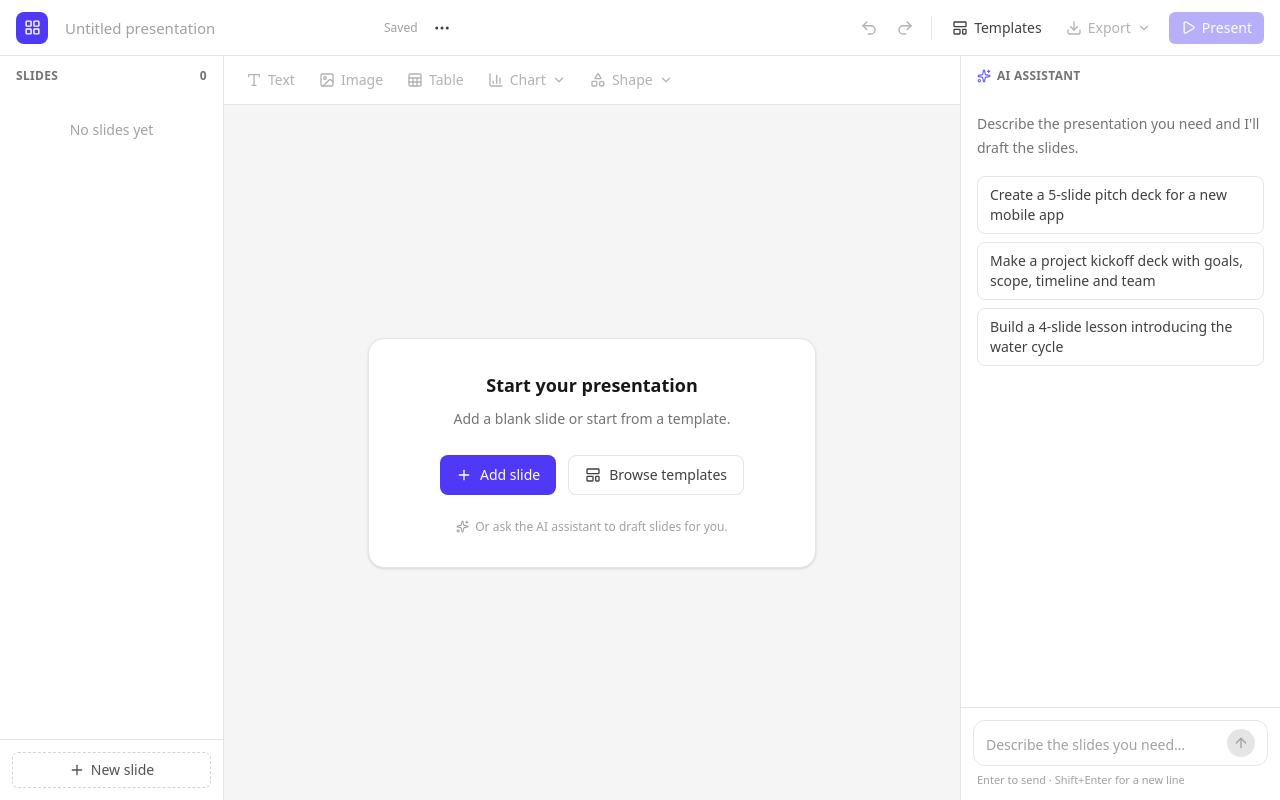
Editor: slides and templates › applies a template from the empty state and autofills the title
Check: the field named "Presentation title" is shown, box [56,10,376,46]
Click the button "Browse templates": click(656, 474) [568,454,744,494]
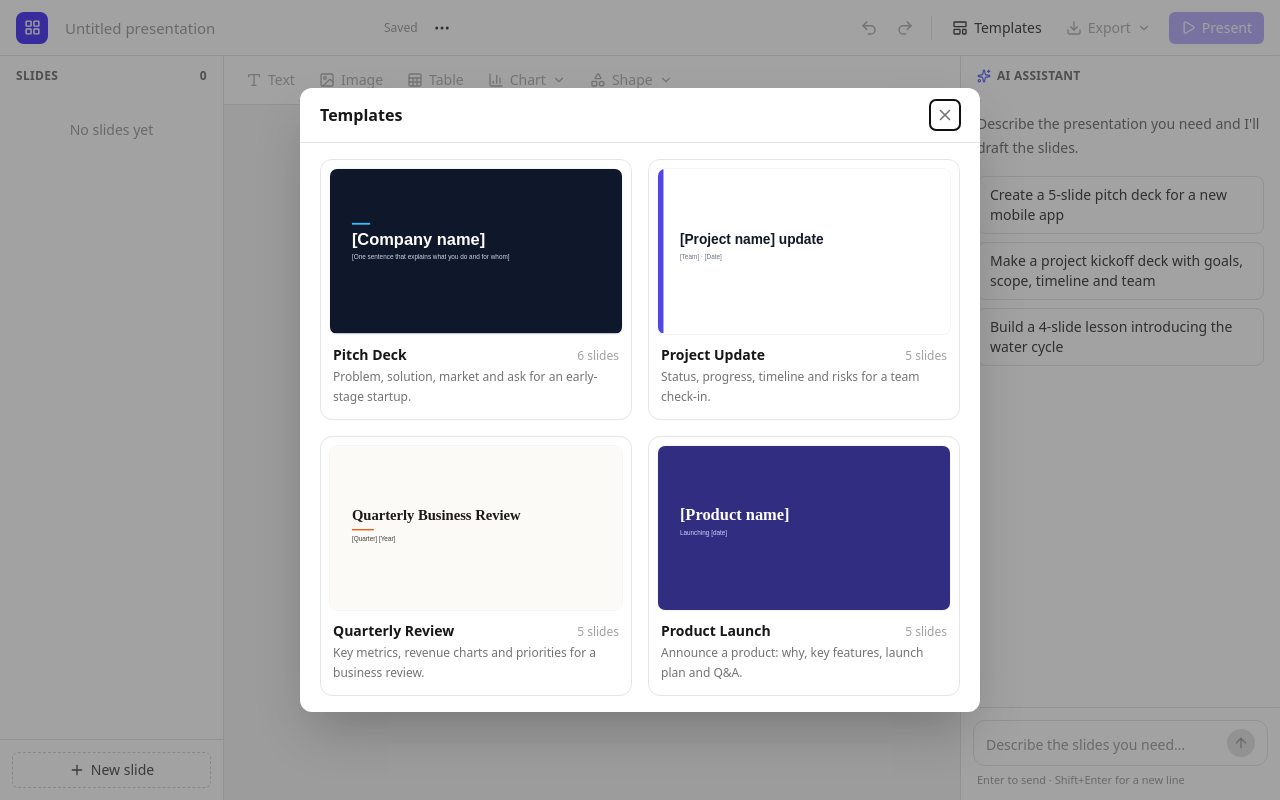
Click the button with aria-label "Project Update template": click(804, 289) [648,159,960,420]
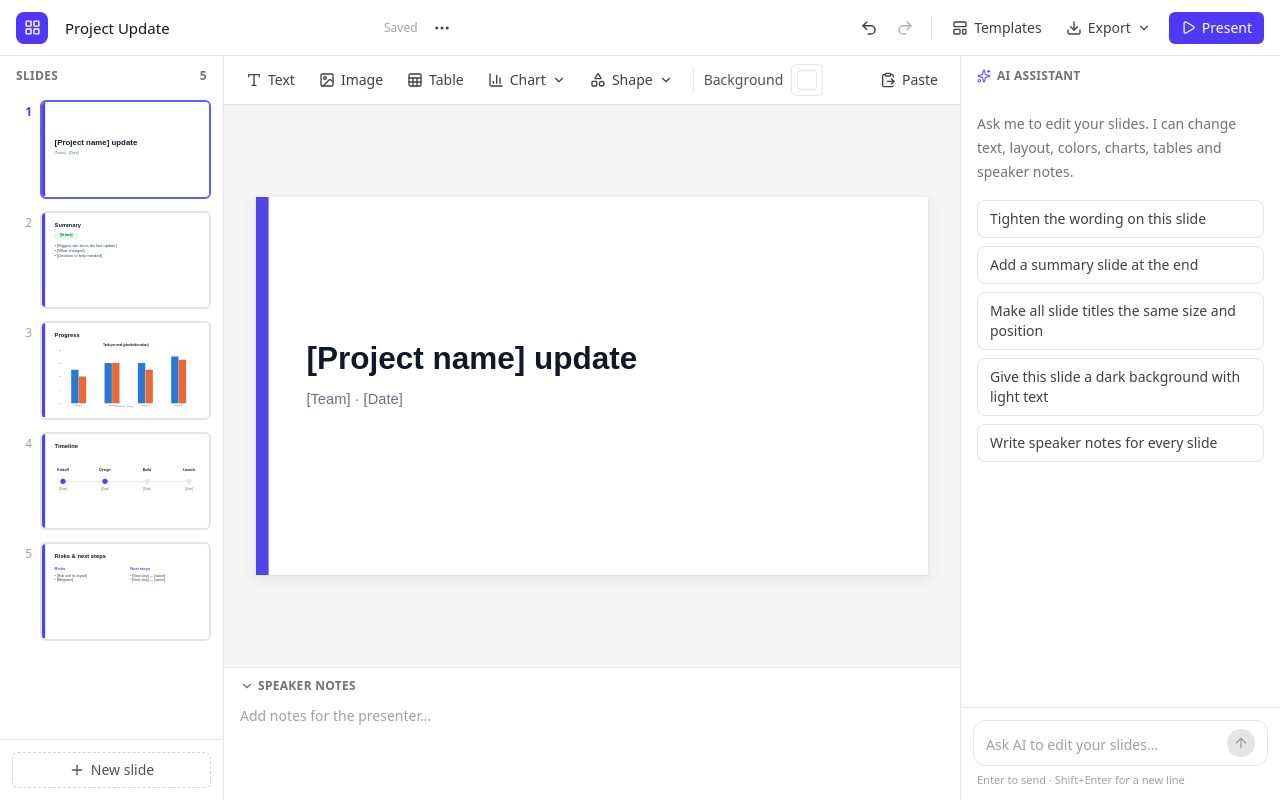
Check: the field named "Presentation title" holds "Project Update", box [56,10,376,46]
Check: the number of buttons "[Project name] update [Team] · [Date]" is 5, box [40,100,211,198]; [40,210,211,309]; [40,321,211,420]; [40,432,211,530]; [40,542,211,640]
Check: the dialog is gone
